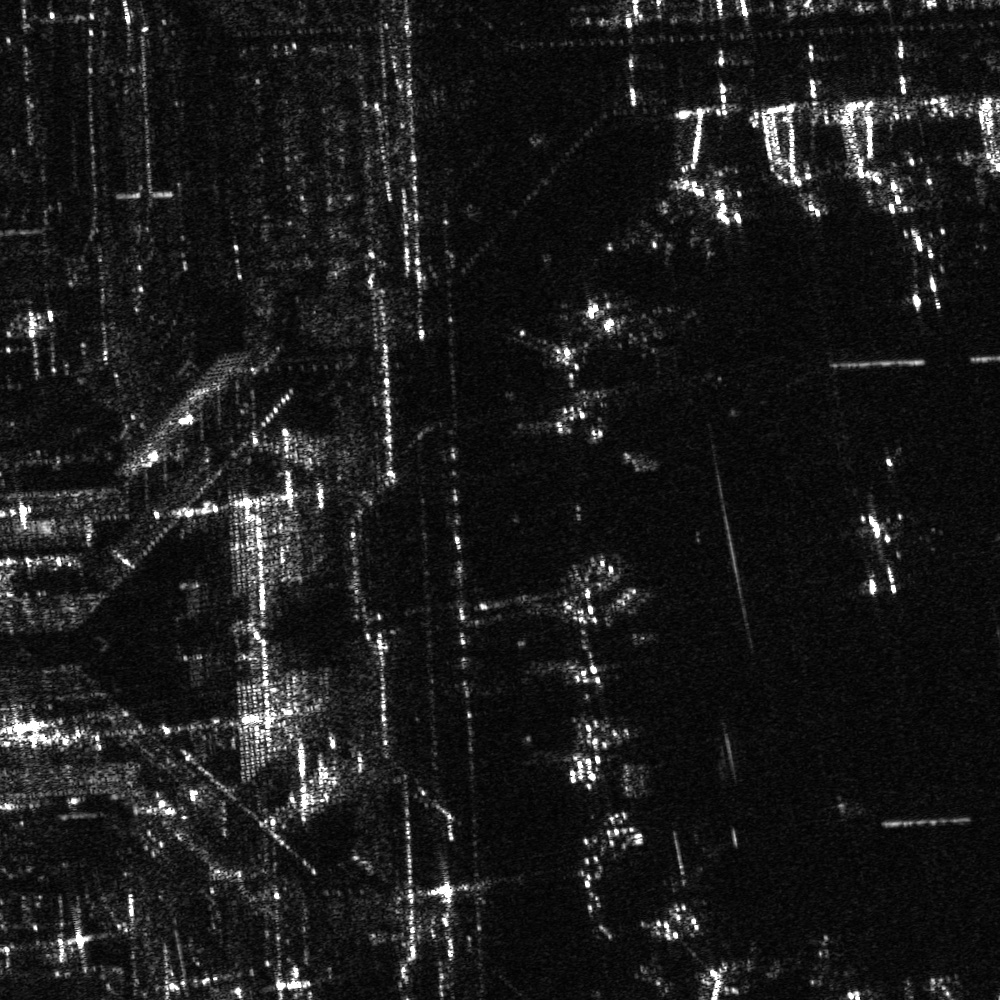Boeing787: (877, 221, 962, 316)
other: (821, 492, 931, 597)
